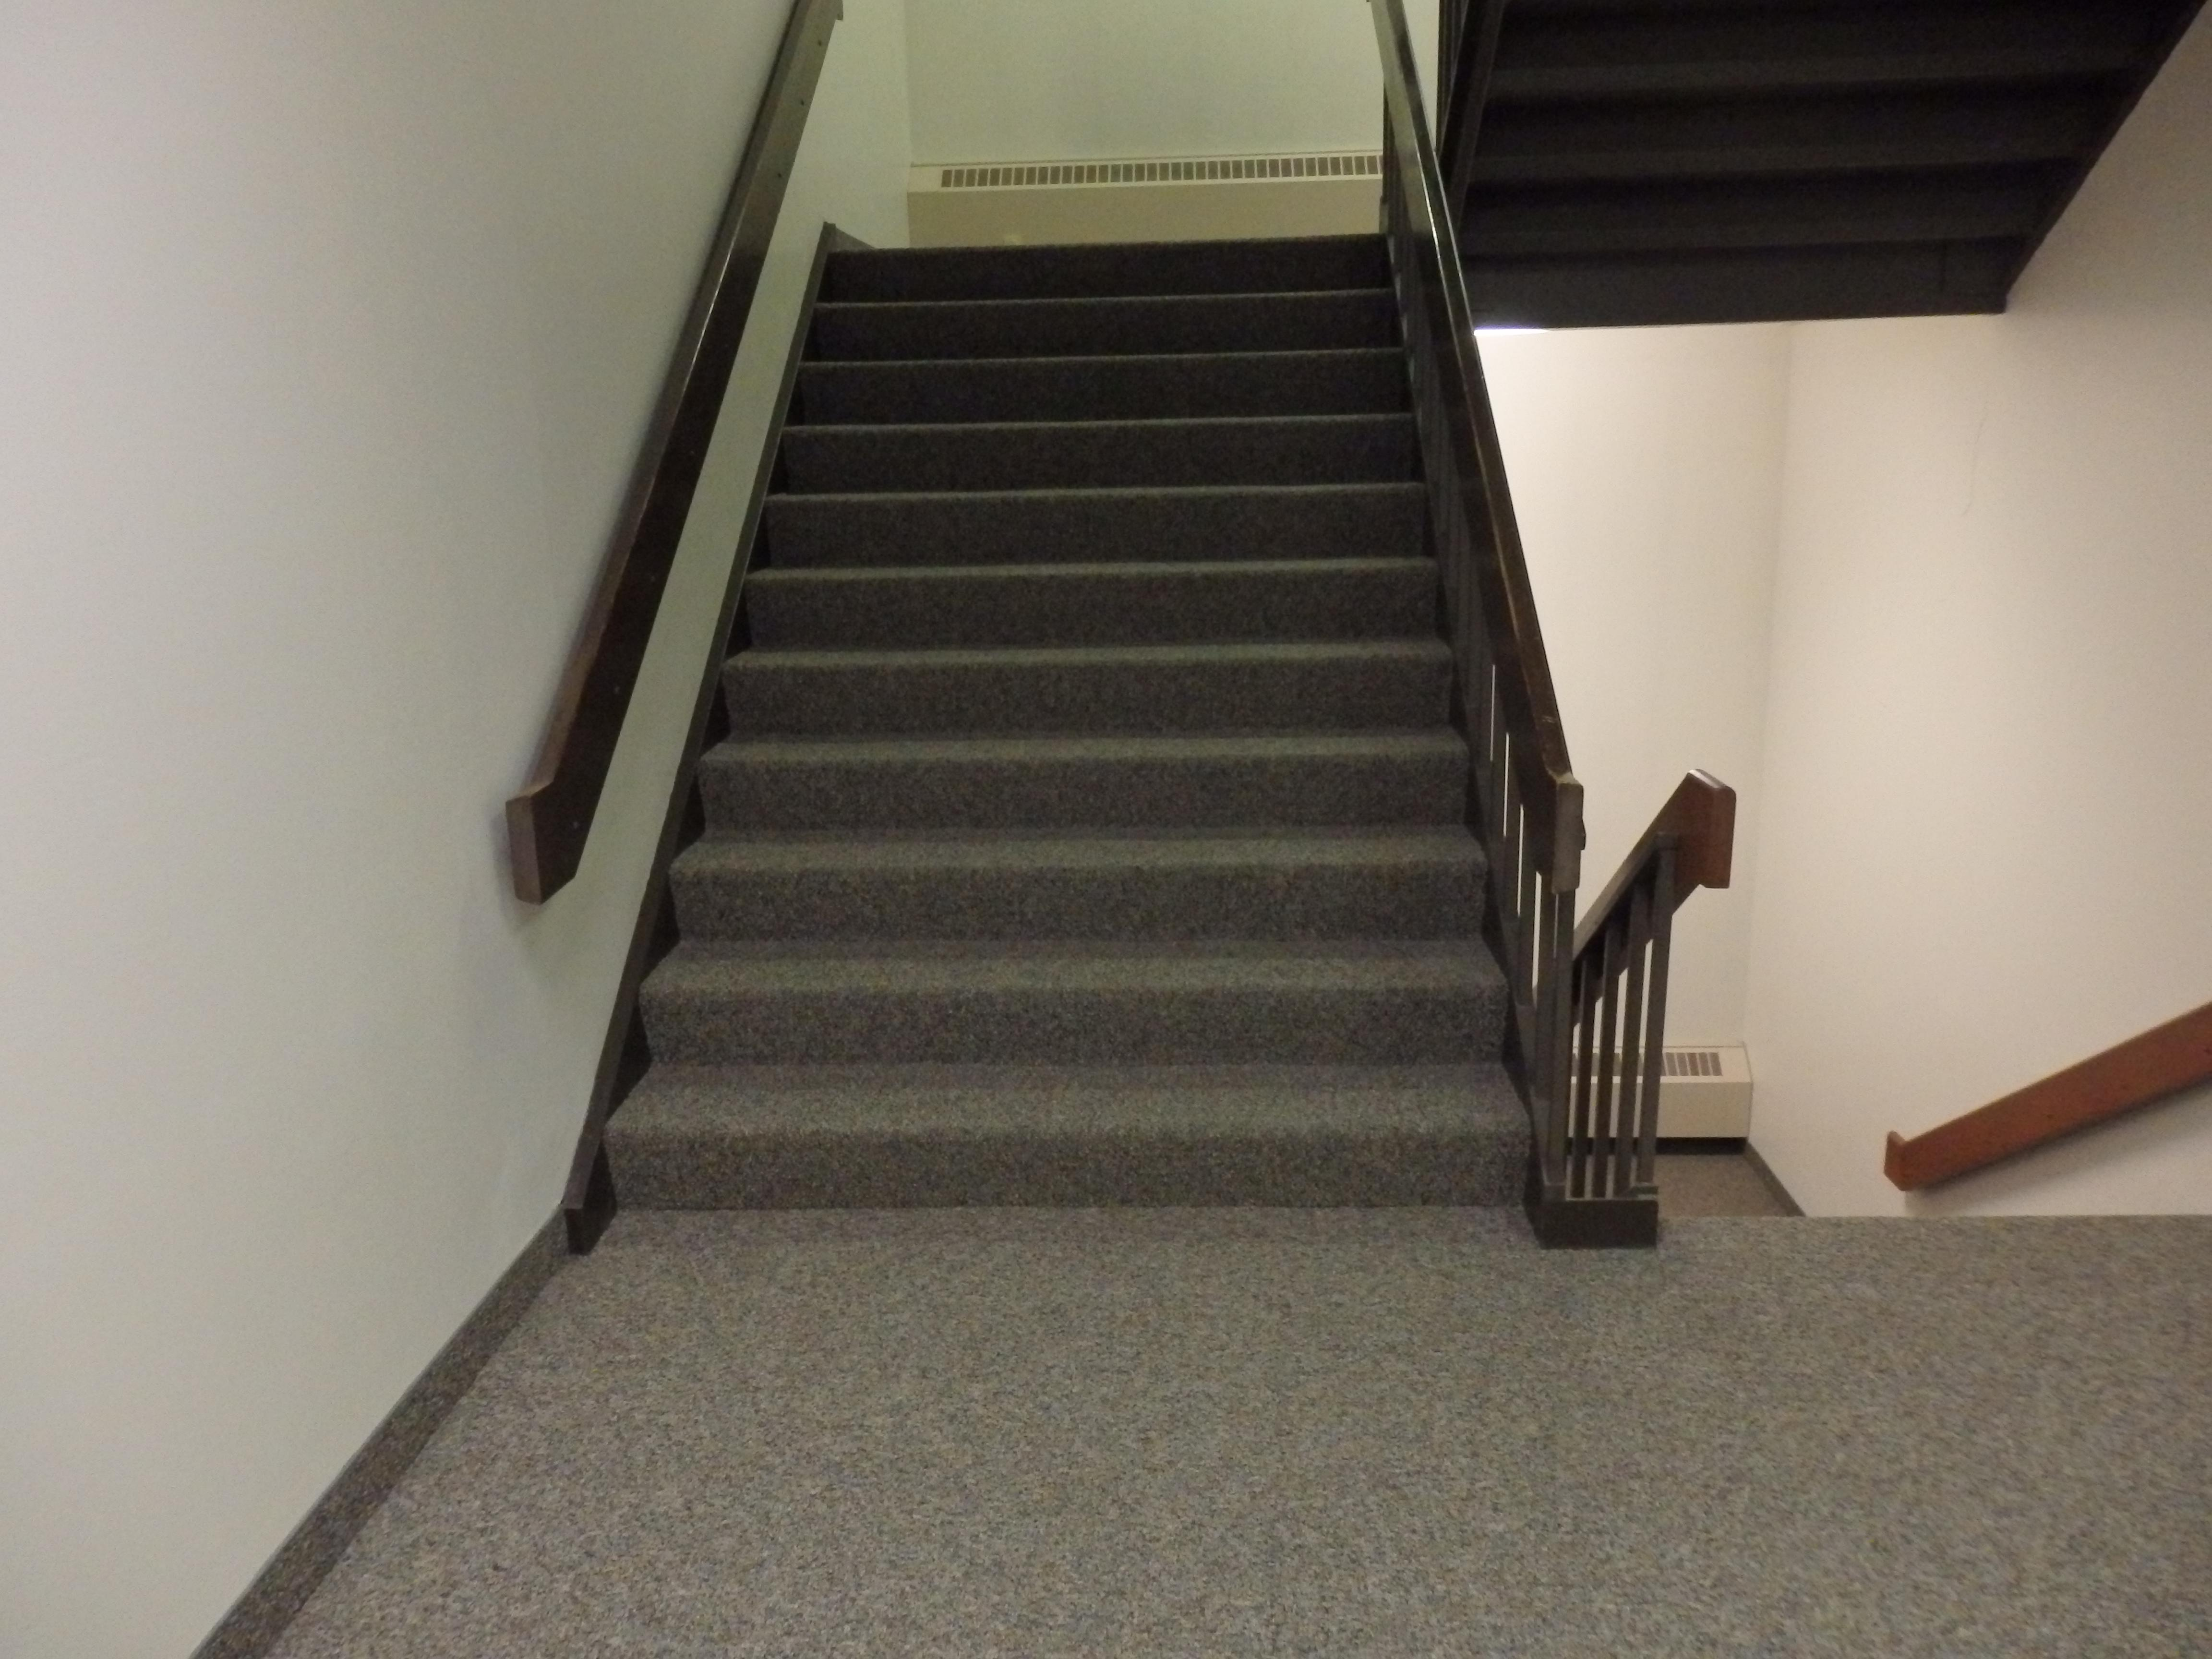stairs_up: (669, 211, 1460, 1225)
